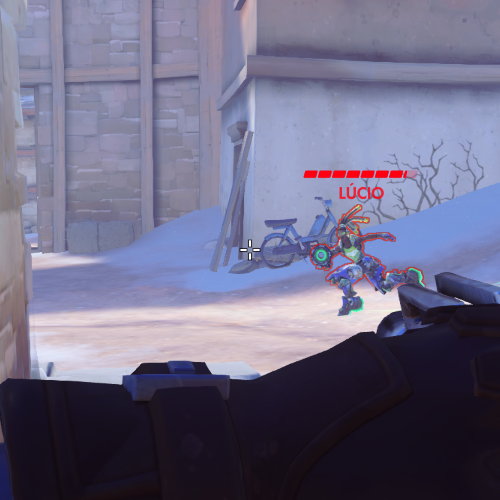hpbar: (303, 169, 418, 180)
